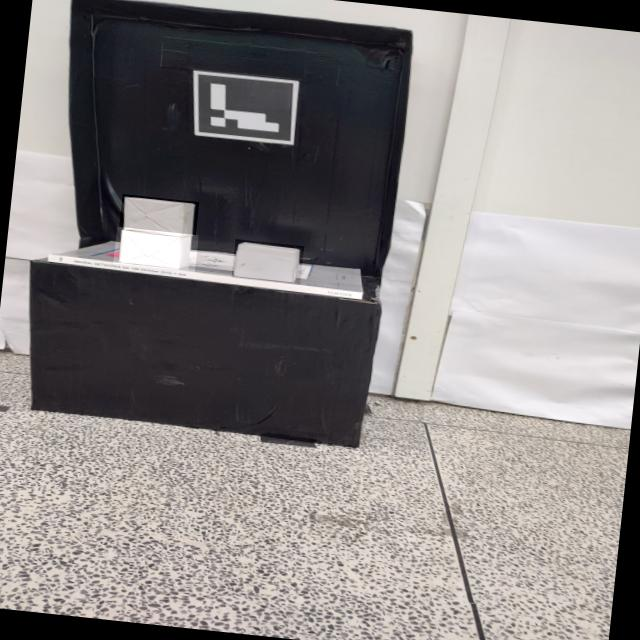bale: (113, 226, 198, 272), (118, 194, 198, 238), (231, 238, 304, 284)
